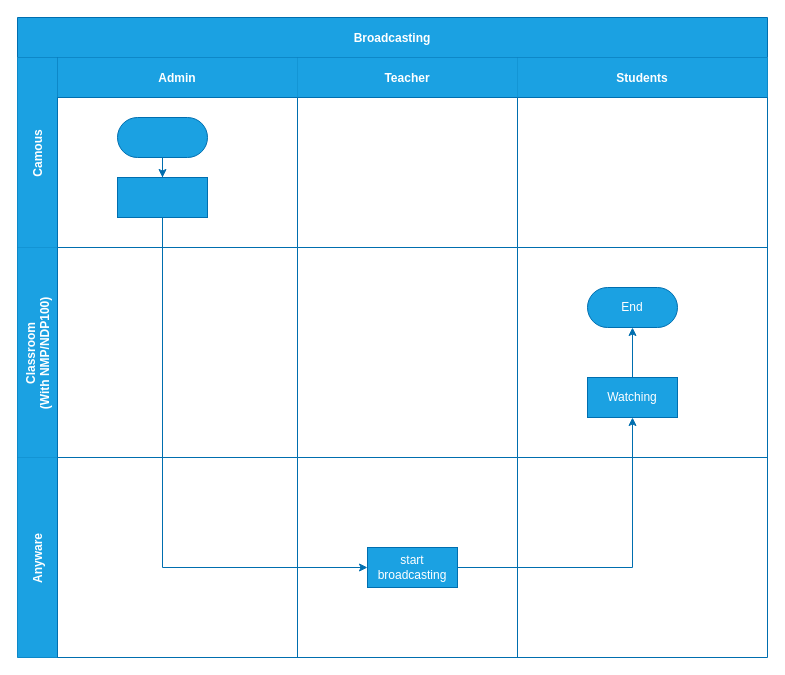
Some shapes in this 785 by 675 pixel diagram are drawn without their labels. The centre of each missing label's shape, as x and y in pixels:
"Start" belongs at point 162,137.
"Upload AV sources" belongs at point 162,197.
